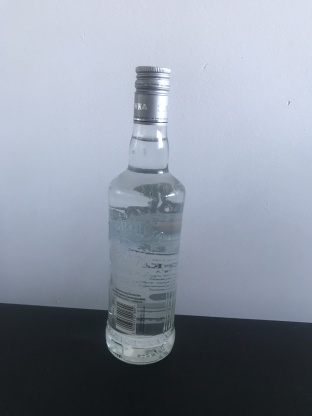nakretka: (132, 63, 172, 128)
